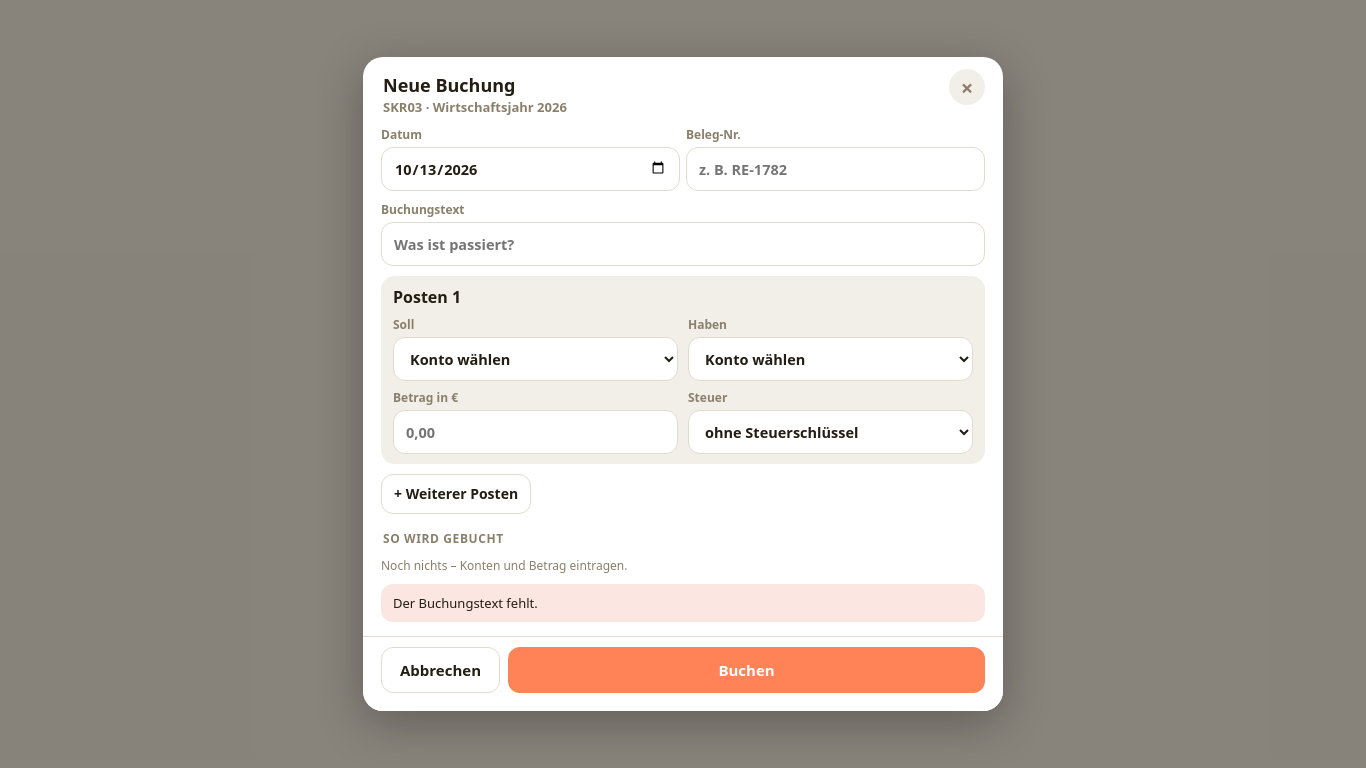
Test: BuchungNeu › Steuerschlüssel auf Bank/Forderung: Hinweis, kein Buchen
This screenshot has width=1366, height=768.
Type "Rechnung RE-1" into the field with placeholder "Was ist passiert?". click: (683, 244)
box: x1=381 y1=222 x2=985 y2=266
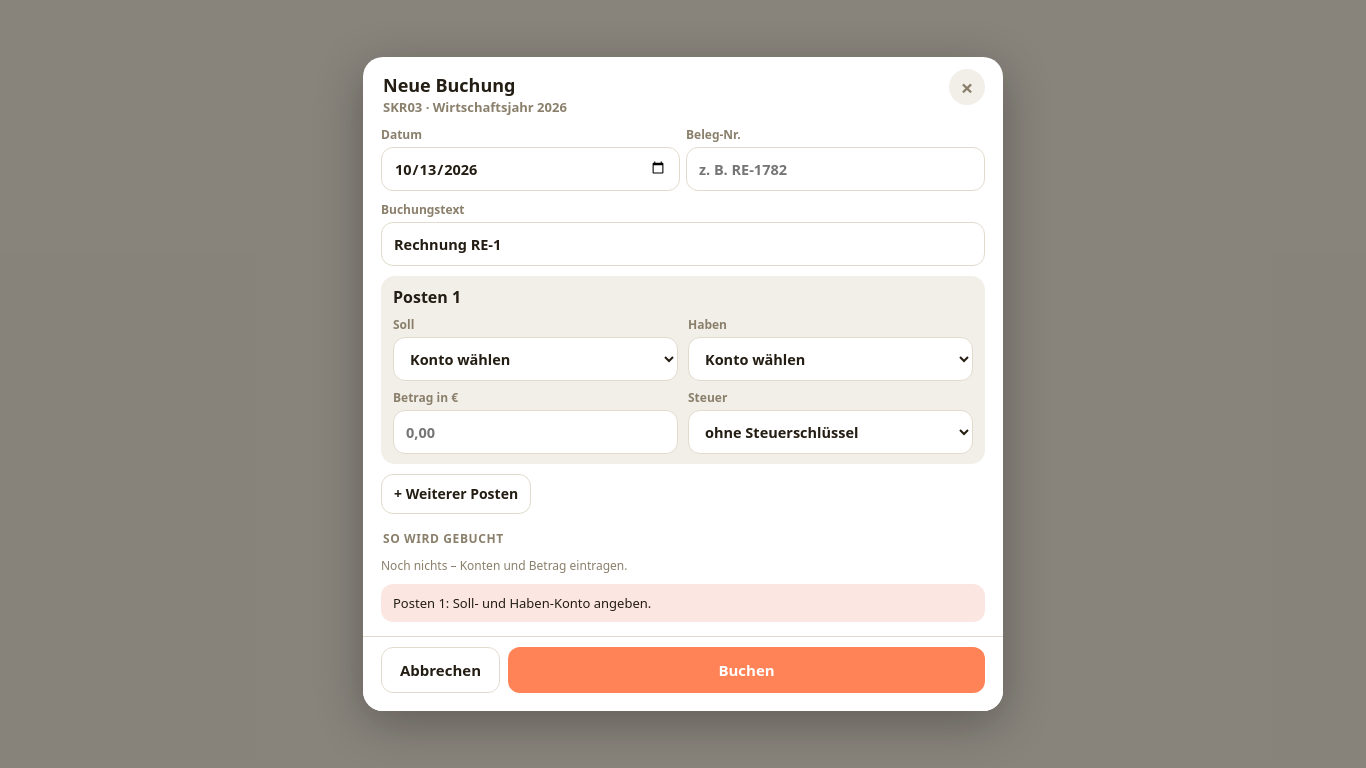
Select "1400 Forderungen" in the dropdown named "Soll-Konto Posten 1". click: (536, 359)
box: x1=393 y1=337 x2=678 y2=381
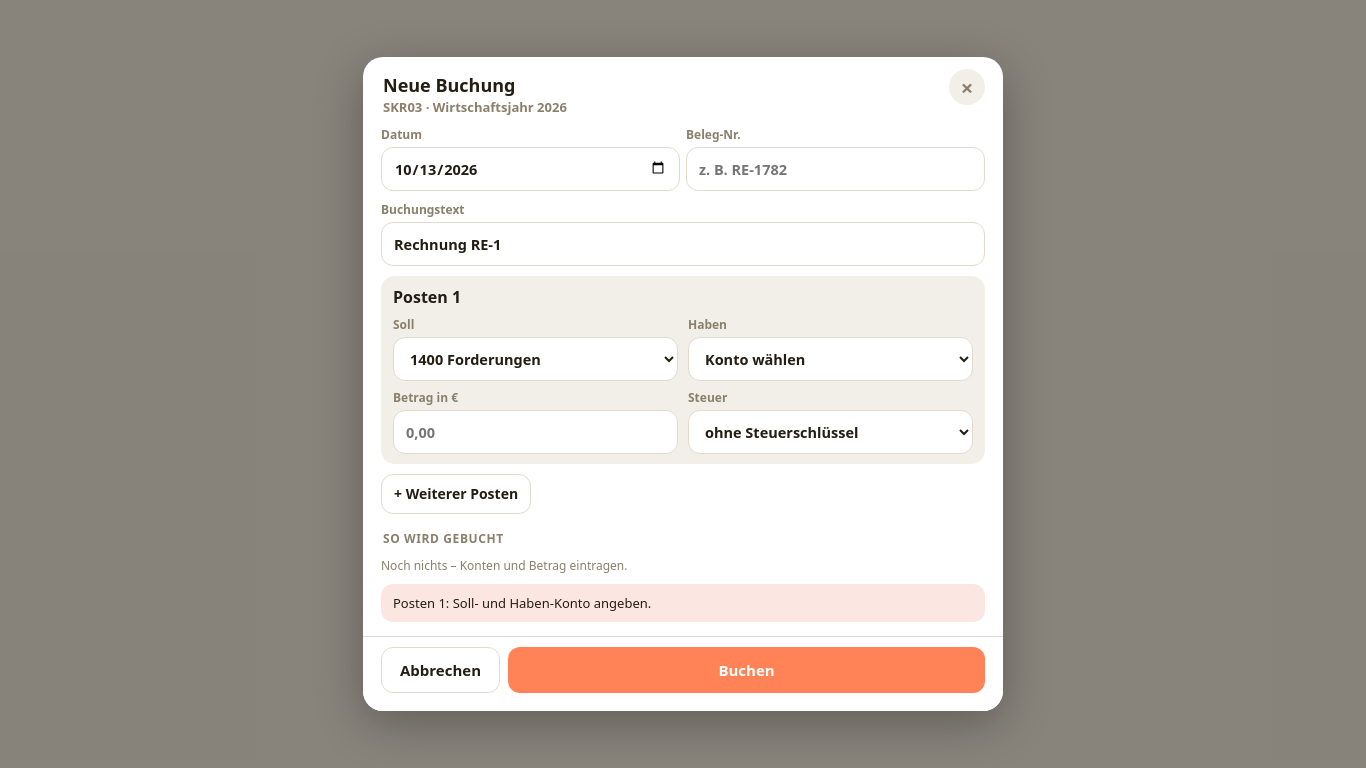
Select "8400 Erlöse 19 %" in the dropdown named "Haben-Konto Posten 1". click: (830, 359)
box: x1=688 y1=337 x2=973 y2=381
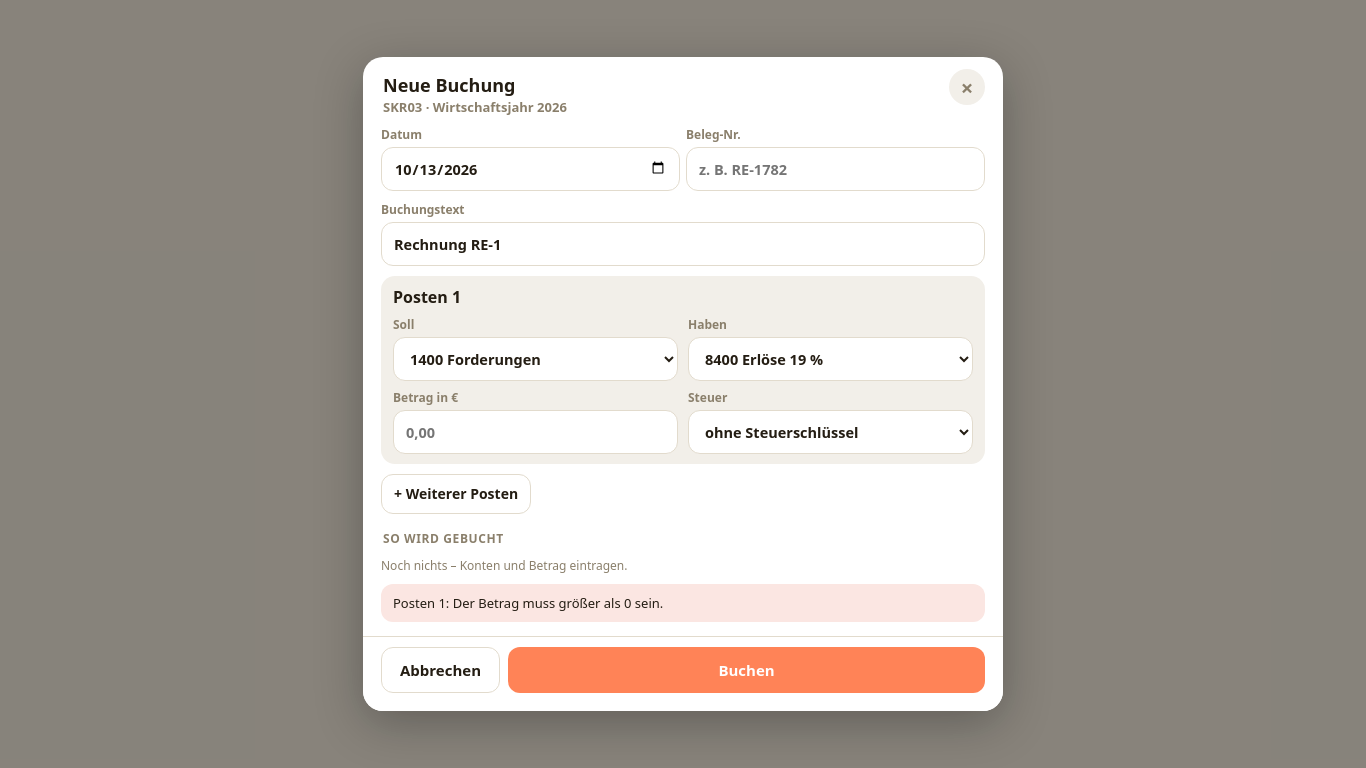
Type "119,00" into the field named "Betrag Posten 1". click: (536, 432)
box: x1=393 y1=410 x2=678 y2=454
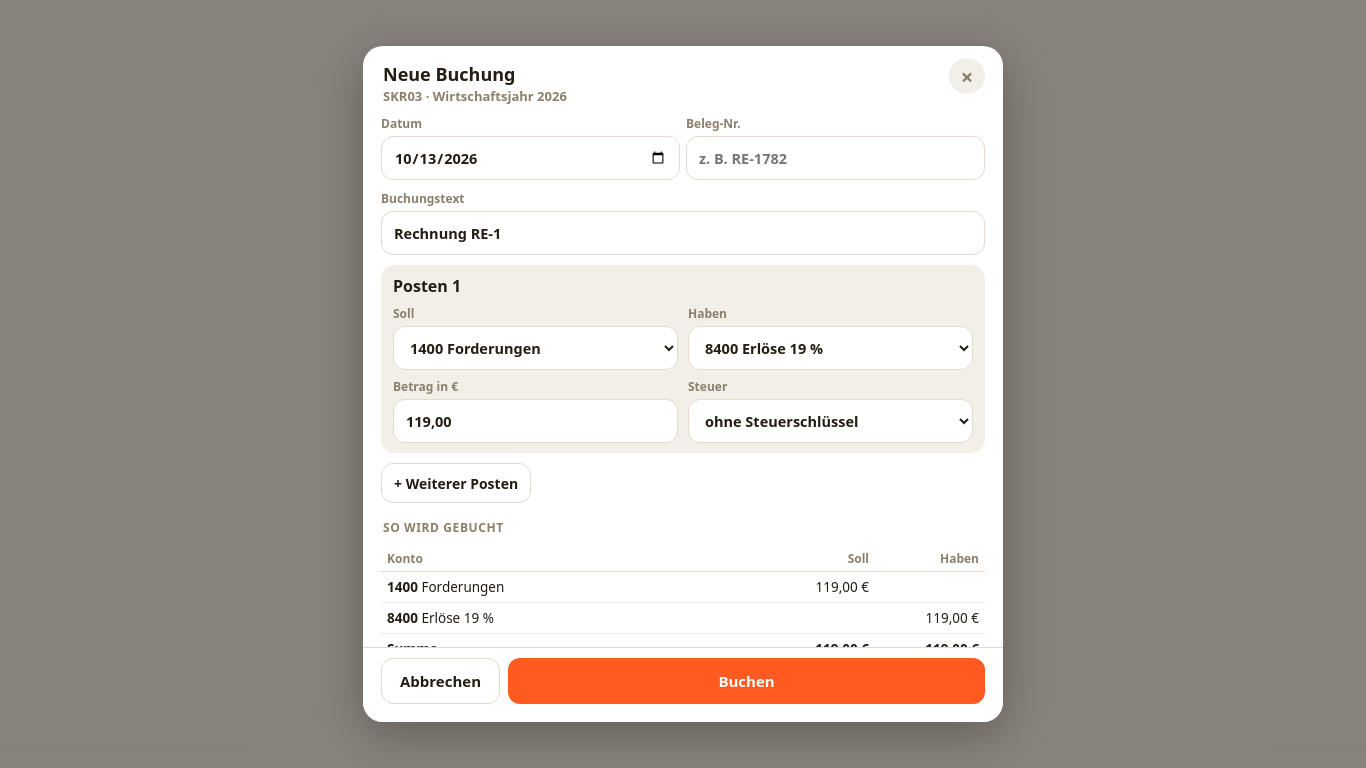
Select "Umsatzsteuer 19 %" in the dropdown named "Steuer Posten 1". click: (830, 421)
box: x1=688 y1=399 x2=973 y2=443
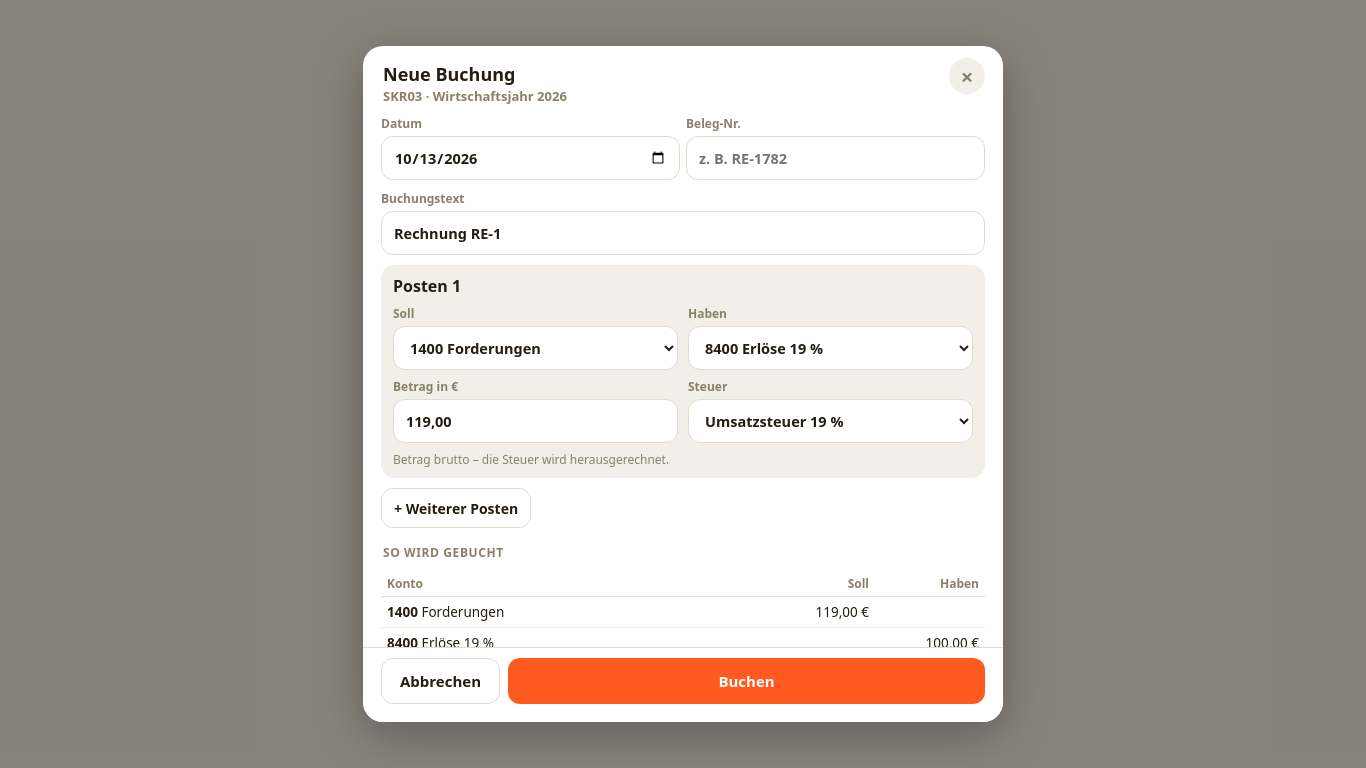
Select "1200 Bank" in the dropdown named "Haben-Konto Posten 1". click: (830, 348)
box: x1=688 y1=326 x2=973 y2=370
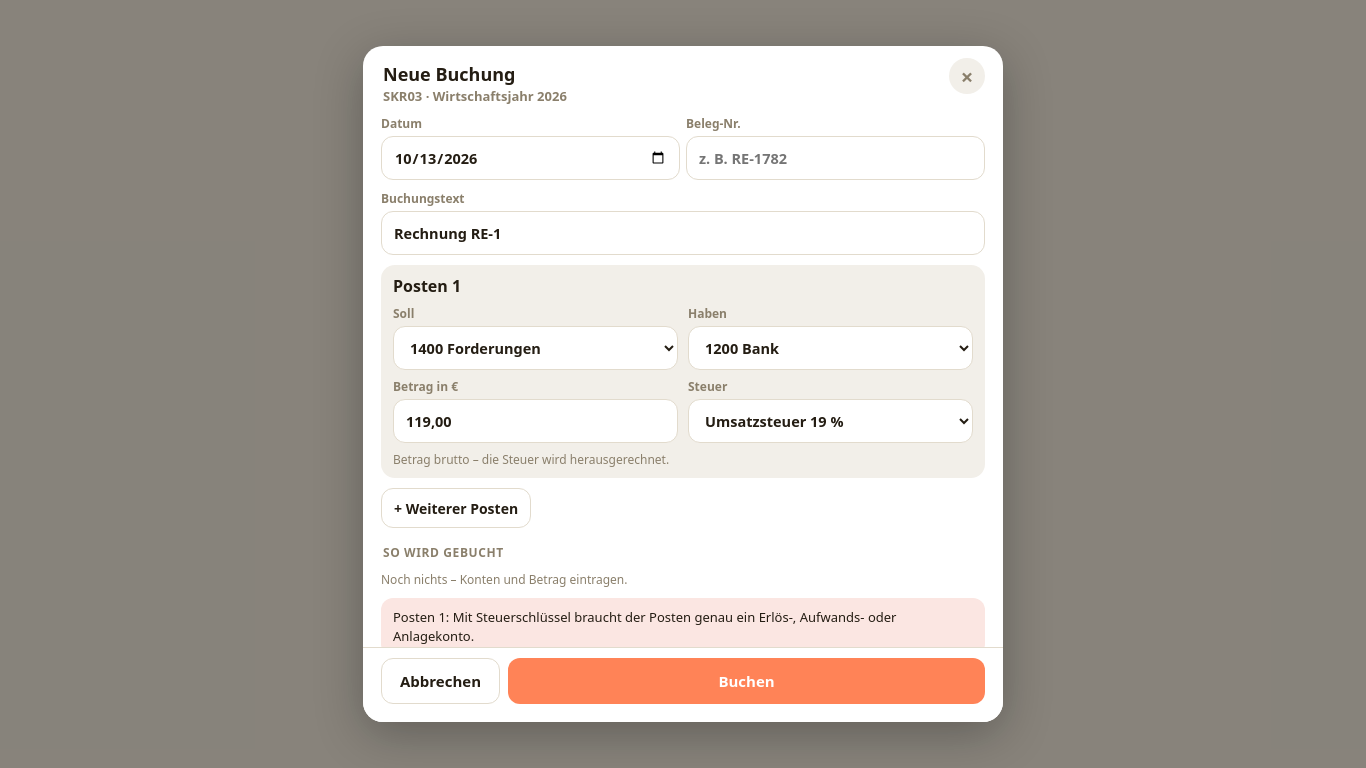
expect the message shows "genau ein Erlös-, Aufwands- oder Anlagekonto": met, box x1=393 y1=608 x2=896 y2=645
expect the button "Buchen" is disabled: met, box x1=508 y1=658 x2=985 y2=704
